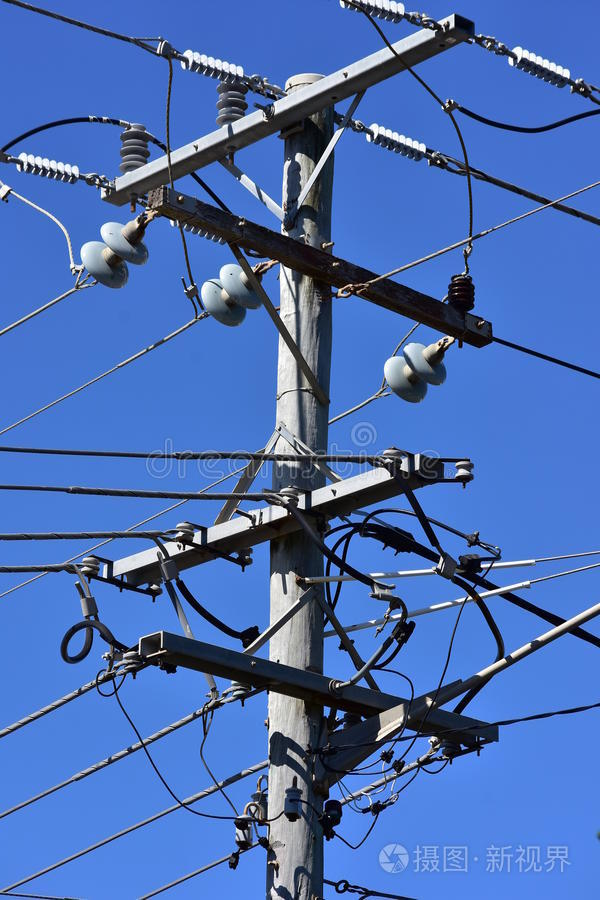insulator: (79, 219, 150, 288), (197, 262, 259, 325), (382, 343, 443, 401), (501, 45, 573, 91), (182, 48, 244, 85), (369, 121, 427, 160), (15, 153, 77, 182), (347, 1, 408, 26)
